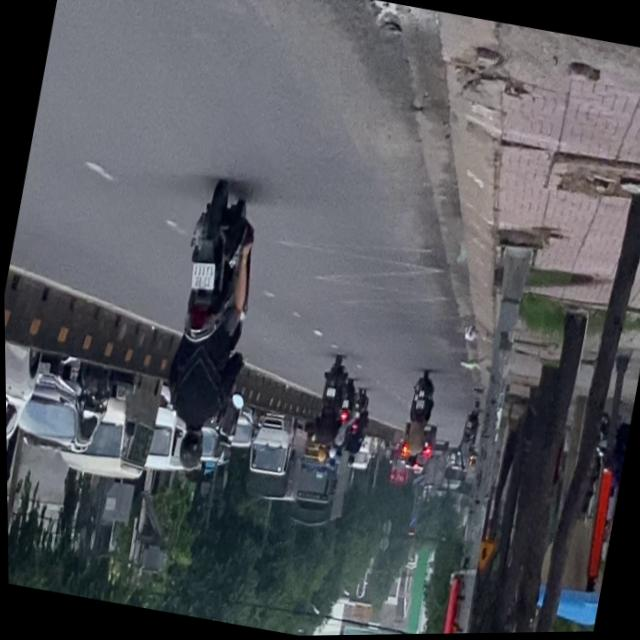helmet: (172, 426, 204, 472)
licenseplate: (142, 176, 273, 479)
nohelmet: (186, 263, 214, 293)
